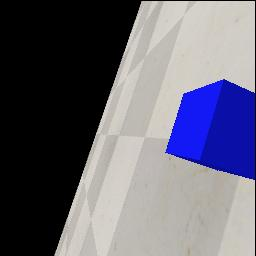box: (165, 79, 255, 180)
